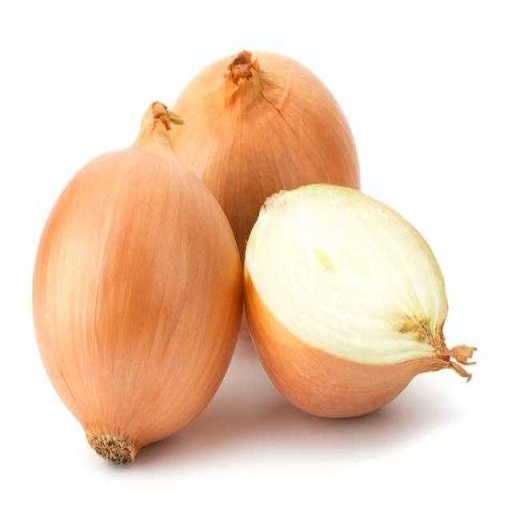Zwiebel: (31, 101, 244, 465), (244, 184, 478, 420)
